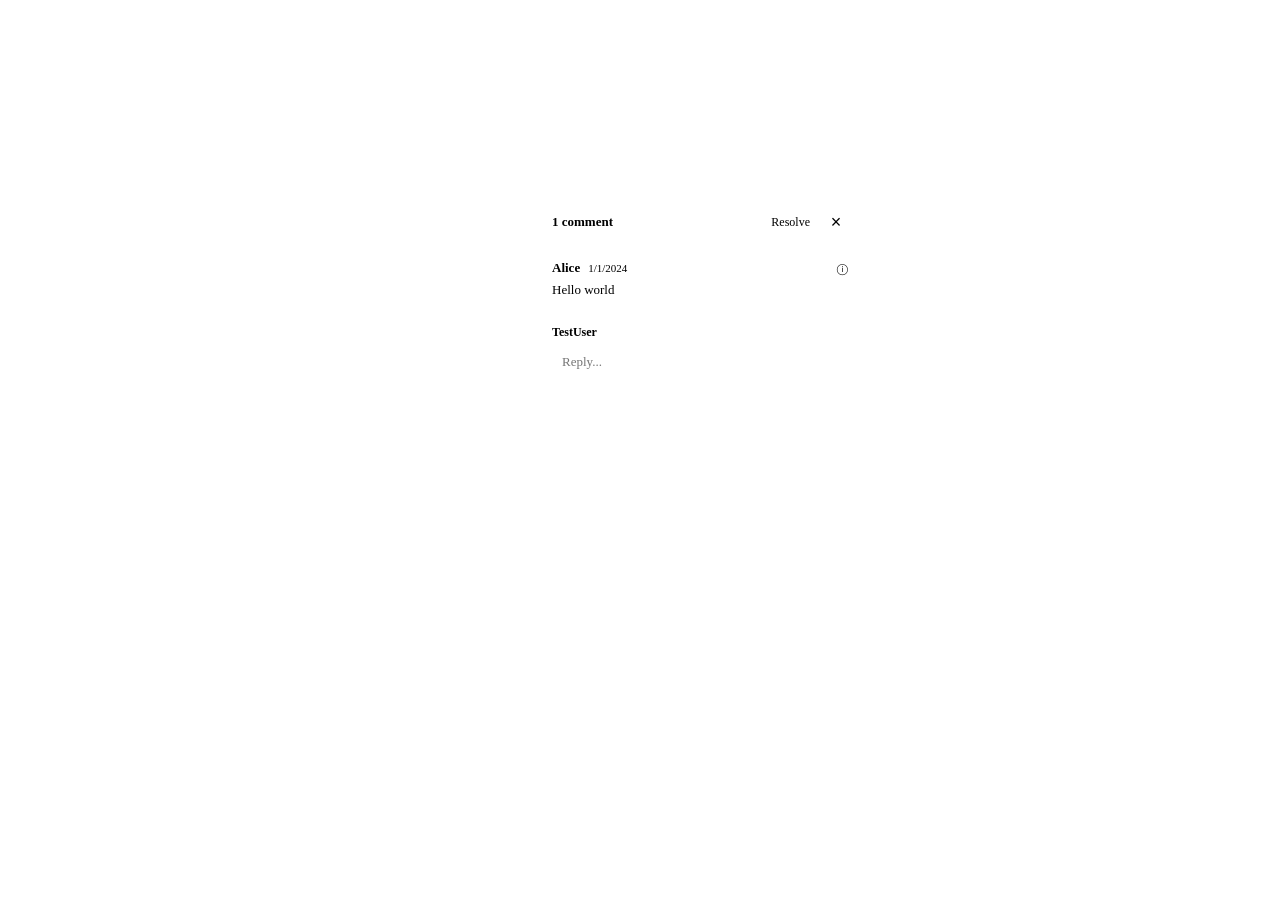
Test: ThreadPopover › shows tooltip on focus and hides on blur (keyboard accessible)
Focus the button "ⓘ" at (842, 268), box left=837, top=263, right=848, bottom=274
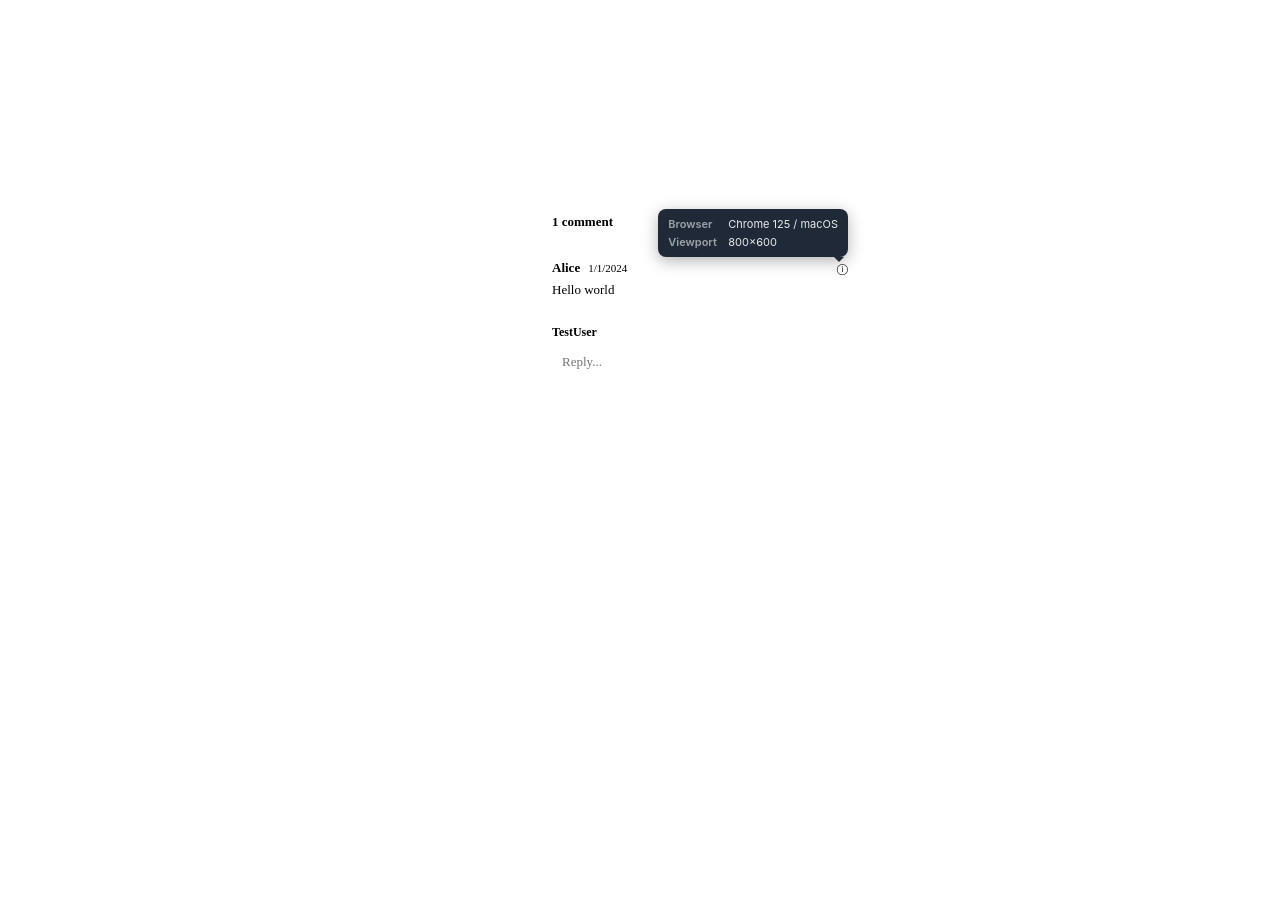
Check: the tooltip "Browser Chrome 125 / macOS Viewport 800×600" is shown, box left=658, top=209, right=848, bottom=257
Leave the button "ⓘ", box left=837, top=263, right=848, bottom=274
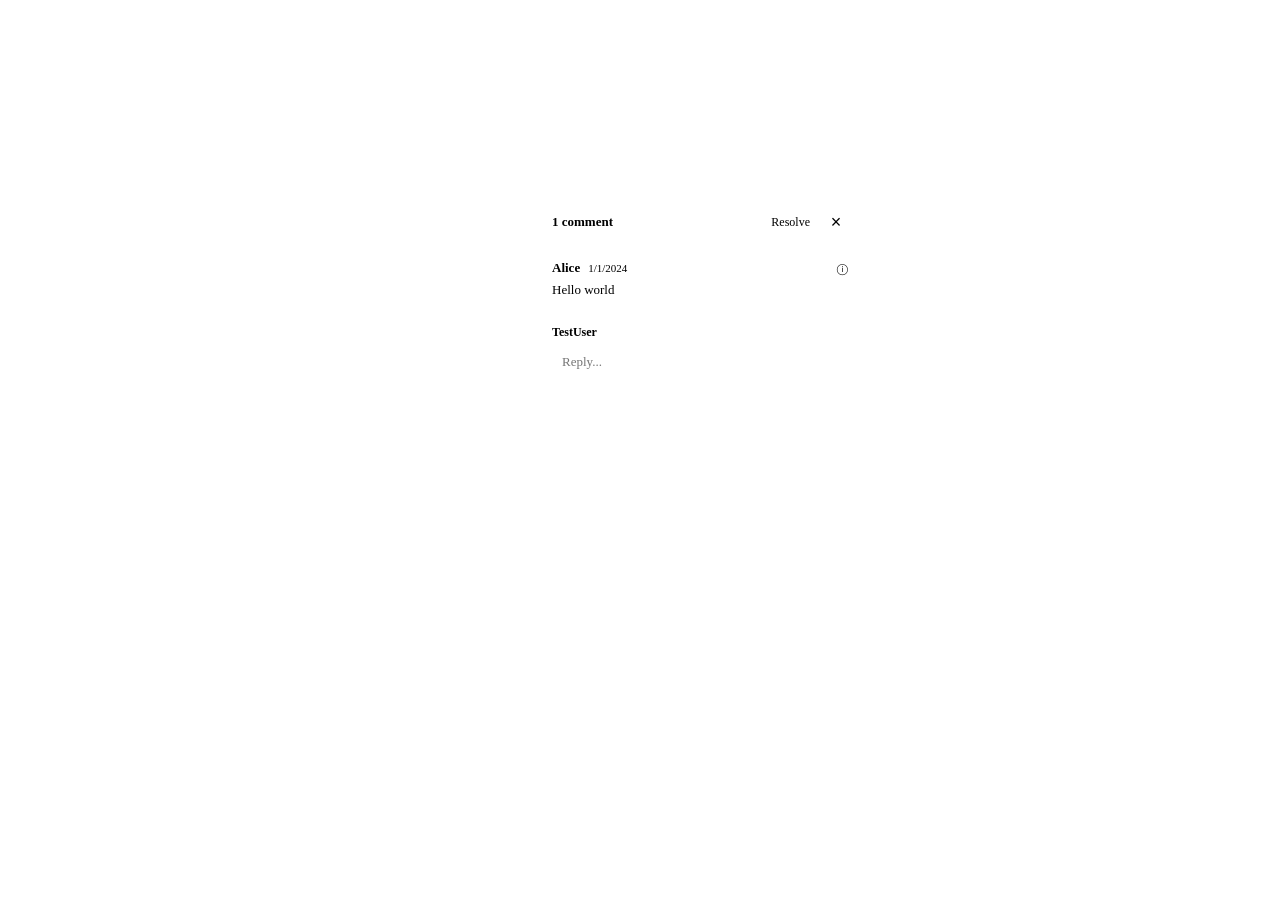
Check: the tooltip "Browser Chrome 125 / macOS Viewport 800×600" is gone
